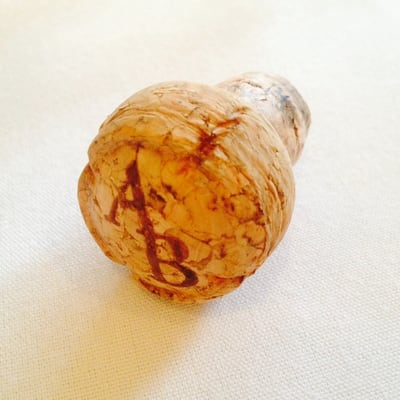soup: (76, 71, 312, 307)
